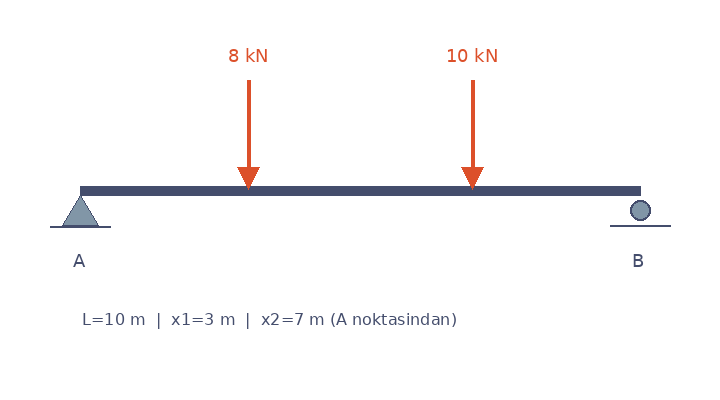pin_support: (61, 190, 99, 226)
point_load: (234, 76, 262, 190), (458, 76, 486, 190)
roller_support: (625, 196, 655, 227)
